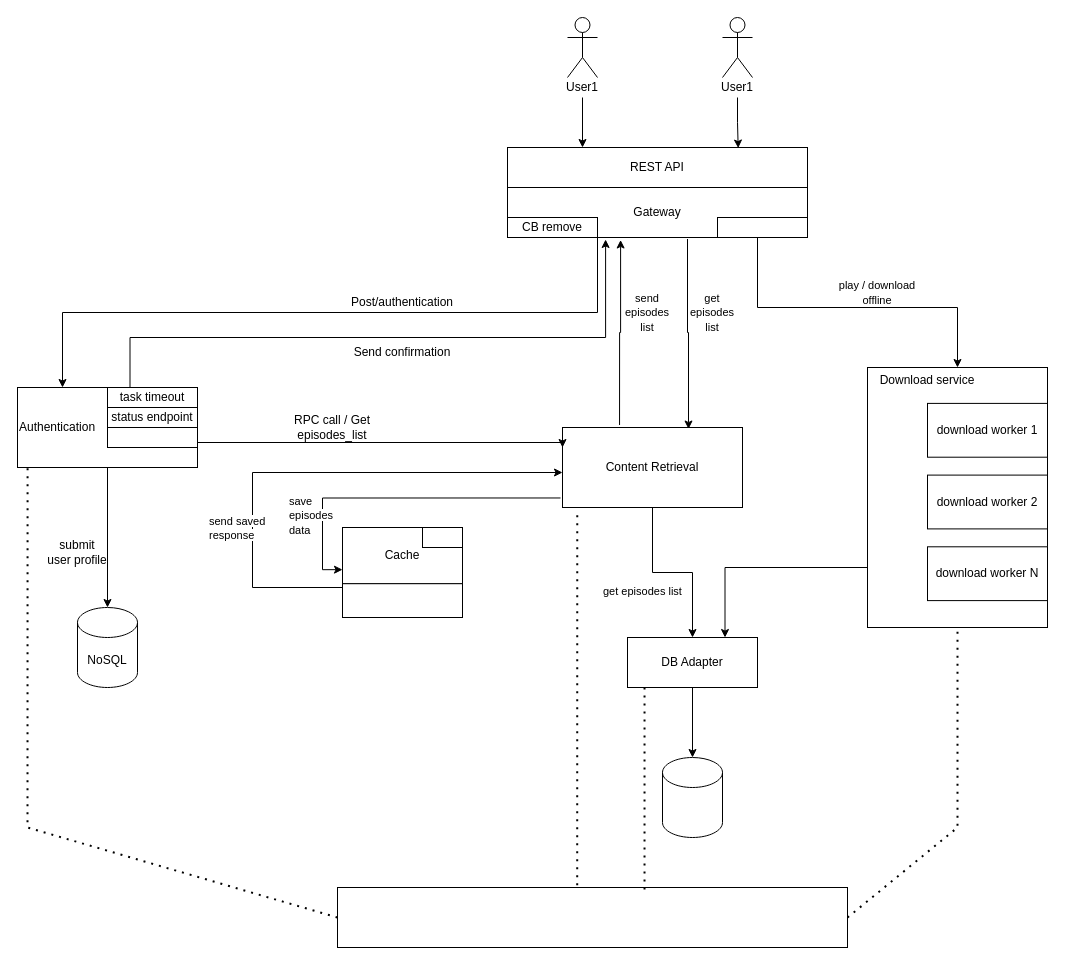
Image size: 1065x965. Some labels were removed from this diagram. The shapes that lost their labels are listed below. From the top down, each one's centre as x and y in pixels, then its label:
pixel 762 227: load balancer
pixel 152 437: unit testing
pixel 442 537: DSL
pixel 402 600: Data
pixel 692 797: SQL
pixel 592 917: Service Discovery
